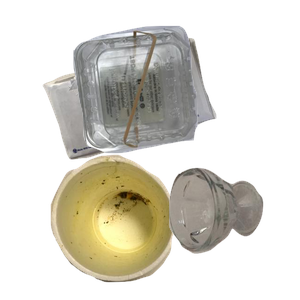glass: (166, 165, 300, 300)
paper: (40, 35, 249, 187)
plastic: (71, 23, 300, 169)
trash: (48, 152, 219, 300)
